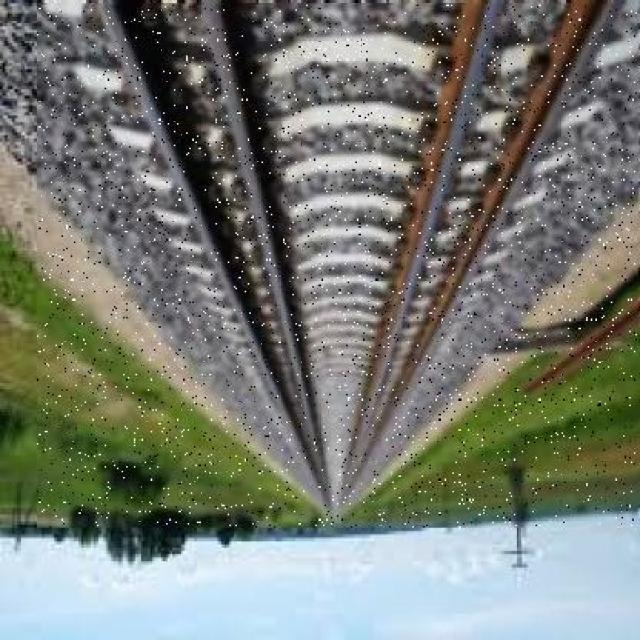rail: (37, 5, 637, 527)
